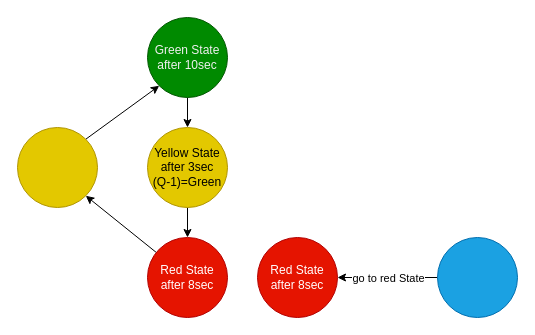
Image size: 535x335. Some labels were removed from this diagram. The centre of each missing label's shape, as x and y in pixels:
Push Button: the point at 477,277
Yellow State blink 3 times (Q-1)=Red: the point at 57,167
